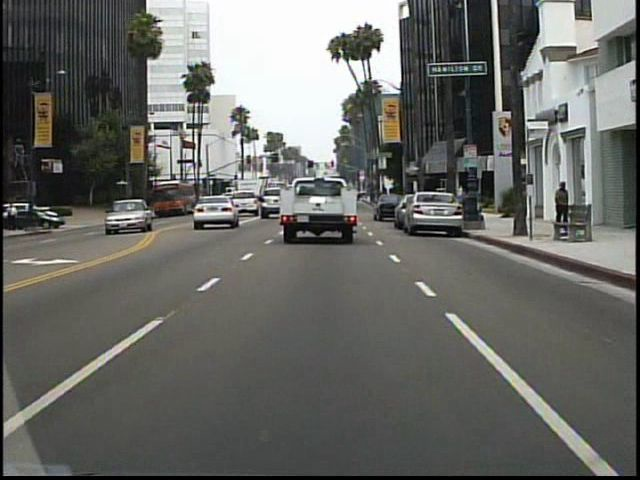person: (548, 177, 571, 230), (112, 193, 127, 221)
